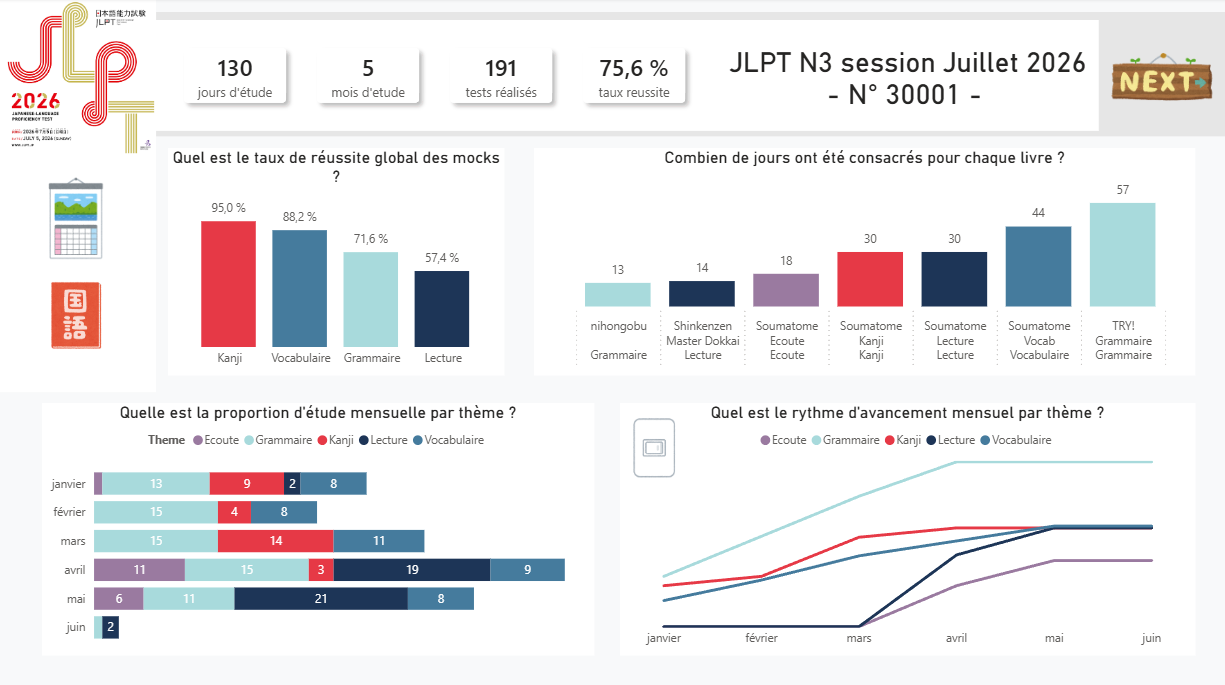

The page's visual inventory and layout, read from the dashboard file:
{"tool":"powerbi","page":{"name":"Accueil","canvas":[1280,720],"ordinal":0},"visuals":[{"type":"textbox","box":[165,15,1115,128.8],"z":0},{"type":"lineChart","title":"Quel est le rythme d''avancement mensuel par thème ?","fields":{"Y":["_Mesures.avancement par theme"],"Series":["Dim_Theme.Theme"],"Category":["DimDate.Année Hiérarchie.Mois","DimDate.Année Hiérarchie.Semaine ISO"]},"box":[646,420,597,262],"z":500,"group":"g2"},{"type":"cardVisual","fields":{"Data":["_Mesures.jours etude unique","_Mesures.durée d'etude","_Mesures.nb test fait","_Mesures.taux reussite tests"]},"box":[165.2,23.1,581.7,115.4],"z":1000},{"type":"image","title":"btn_switch graphique1","box":[657,433,48,66],"z":1000,"group":"g2"},{"type":"columnChart","title":"Combien de jours ont été consacrés pour chaque livre ?","fields":{"Category":["Dim_Theme.Theme","Dim_Theme.Livre"],"Y":["_Mesures.jours etude"]},"box":[556.6,155.3,686.3,236.4],"z":2000},{"type":"card","fields":{"Values":["_Mesures.date de passage"]},"box":[746.9,23.1,395.9,115.4],"z":3000},{"type":"columnChart","title":"Quel est le taux de réussite global des mocks ?","fields":{"Y":["_Mesures.taux reussite tests"],"Category":["Dim_Theme.Theme"]},"box":[177.3,155.3,349.3,236.4],"z":4000},{"type":"image","title":"img_mois","box":[48,185,69,89],"z":5000,"group":"g1"},{"type":"barChart","title":"Quelle est la proportion d''étude mensuelle par thème ?","fields":{"Category":["DimDate.Année Hiérarchie.Année","DimDate.Année Hiérarchie.Mois","DimDate.Année Hiérarchie.Jour Semaine"],"Y":["_Mesures.jours etude"],"Series":["Dim_Theme.Theme"]},"box":[47,420,573,262],"z":5000},{"type":"image","title":"img_theme","box":[48,294,69,72],"z":6000,"group":"g1"},{"type":"textbox","box":[0,161,165,248],"z":7000},{"type":"image","box":[0,0,165,161],"z":7500},{"type":"group","id":"g1","title":"menu déroulant","box":[0,0,274,532],"z":8000},{"type":"image","title":"btn_next","box":[1152.5,42.5,112.9,77.7],"z":9000},{"type":"group","id":"g2","title":"graph barre swich","box":[646,420,597,262],"z":10000}]}

Visuals, with their boxes in screenshot pixels (x1, y1, x2, y2), scaled from the page's 1280x720 canvas onto the 1225x685 screenshot:
textbox: [158,14,1224,137]
"Quel est le rythme d''avancement mensuel par thème ?" lineChart: [618,400,1190,649]
cardVisual - _Mesures.jours etude unique x _Mesures.durée d'etude: [158,22,715,132]
"btn_switch graphique1" image: [629,412,675,475]
"Combien de jours ont été consacrés pour chaque livre ?" columnChart: [533,148,1189,373]
card - _Mesures.date de passage: [715,22,1094,132]
"Quel est le taux de réussite global des mocks ?" columnChart: [170,148,504,373]
"img_mois" image: [46,176,112,261]
"Quelle est la proportion d''étude mensuelle par thème ?" barChart: [45,400,593,649]
"img_theme" image: [46,280,112,348]
textbox: [0,153,158,389]
image: [0,0,158,153]
"menu déroulant" group: [0,0,262,506]
"btn_next" image: [1103,40,1211,114]
"graph barre swich" group: [618,400,1190,649]
